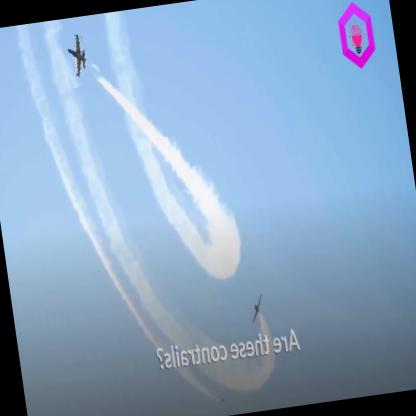plane: (53, 23, 99, 89), (243, 287, 270, 328)
